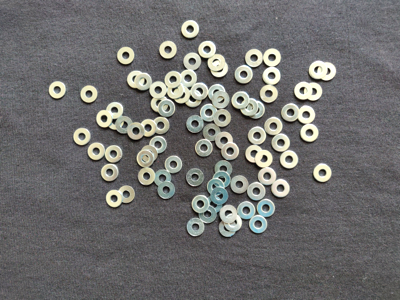circle: (313, 164, 333, 185), (47, 80, 67, 100), (185, 218, 205, 238), (247, 181, 267, 201), (318, 62, 337, 83), (117, 46, 136, 66), (198, 40, 217, 60), (234, 65, 253, 85), (263, 67, 283, 86), (260, 85, 279, 105), (87, 142, 106, 162), (101, 164, 121, 183), (195, 140, 215, 159), (186, 168, 205, 188), (218, 219, 238, 238), (237, 201, 256, 221), (272, 179, 291, 199), (247, 126, 267, 145), (272, 134, 291, 154), (119, 184, 137, 205), (257, 198, 275, 219), (181, 20, 200, 39), (183, 52, 202, 71), (263, 48, 282, 67), (203, 124, 222, 143), (258, 168, 277, 187), (280, 151, 299, 170), (265, 117, 284, 136), (298, 106, 317, 125), (207, 54, 227, 72), (138, 167, 156, 187), (246, 144, 264, 164), (128, 69, 145, 90), (135, 73, 153, 92), (106, 190, 124, 209), (106, 101, 124, 120), (107, 112, 125, 131), (152, 117, 171, 135), (158, 99, 176, 118), (164, 71, 182, 90), (209, 84, 227, 103), (187, 115, 205, 134), (213, 110, 232, 128), (222, 143, 240, 162), (154, 170, 173, 188), (165, 156, 184, 174), (192, 195, 210, 214), (204, 195, 223, 213), (215, 160, 234, 178), (224, 214, 243, 232), (250, 215, 269, 233), (255, 150, 273, 169), (281, 103, 299, 122), (301, 124, 320, 142), (310, 61, 328, 80), (201, 103, 218, 123), (248, 100, 265, 120), (211, 61, 229, 79), (73, 127, 91, 145), (115, 116, 133, 134), (212, 91, 230, 109), (216, 132, 234, 150), (150, 136, 168, 154), (157, 182, 175, 200), (220, 205, 238, 223), (231, 177, 249, 195), (232, 91, 250, 109), (294, 81, 312, 99), (305, 83, 323, 101), (79, 86, 98, 103), (160, 41, 177, 60), (106, 146, 125, 163), (127, 123, 146, 140), (149, 82, 168, 99), (136, 151, 155, 168), (246, 51, 264, 68), (151, 96, 169, 113), (180, 70, 197, 88), (192, 83, 209, 101), (185, 91, 203, 108), (200, 206, 217, 224), (211, 188, 229, 205), (213, 171, 231, 188), (242, 98, 258, 117), (141, 145, 157, 163), (207, 179, 225, 195), (141, 119, 156, 138), (168, 83, 184, 100), (97, 111, 112, 129), (175, 86, 190, 104)
